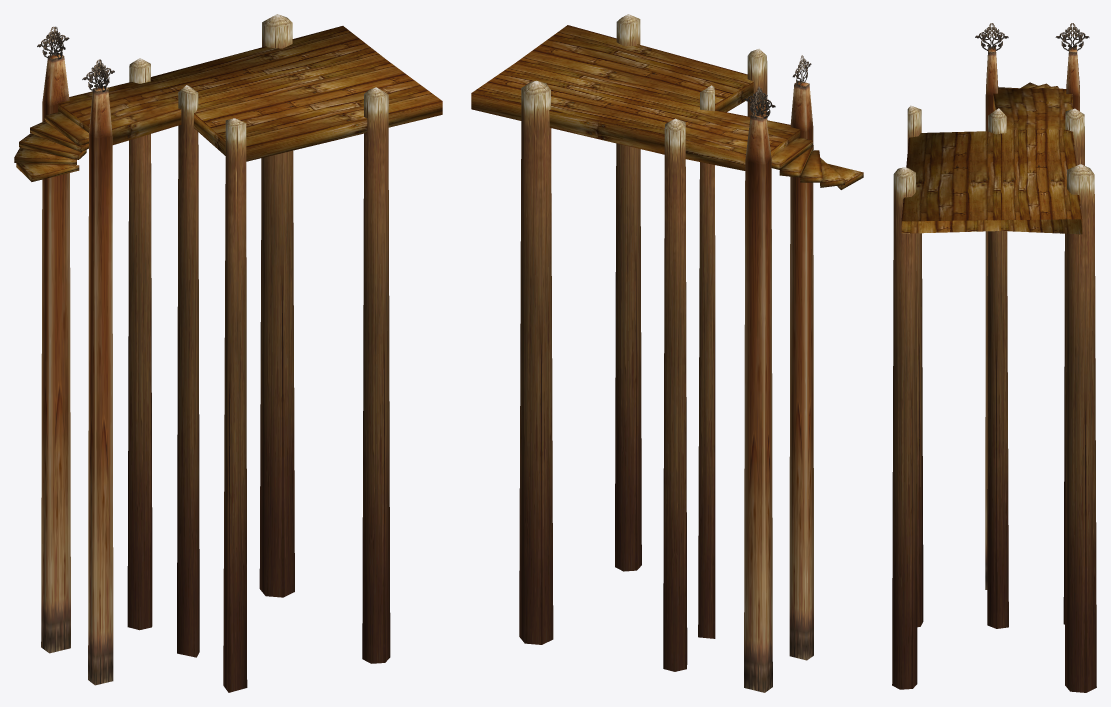
File: smalldock.obj
3 views of the same model, side by side, from view 1: azimuth 30°, elevation 25°; view 2: azimuth 150°, elevation 25°; view 3: azimuth 270°, elevation 25° (orthographic). The views are drawn at different scales.
Visible parts, largest first — view 1: Geoset1, Geoset3, Geoset0, Geoset2; view 2: Geoset1, Geoset3, Geoset0, Geoset2; view 3: Geoset1, Geoset0, Geoset3, Geoset2.
Boxes of the visible parts, box(x1,y1,x2,y2) form: Geoset1: box(127, 14, 390, 692); Geoset3: box(41, 53, 113, 685); Geoset0: box(14, 26, 442, 181); Geoset2: box(37, 26, 114, 91); Geoset1: box(519, 14, 767, 671); Geoset3: box(744, 81, 813, 692); Geoset0: box(471, 25, 863, 189); Geoset2: box(744, 55, 811, 118); Geoset1: box(892, 105, 1096, 692); Geoset0: box(901, 82, 1082, 234); Geoset3: box(985, 47, 1079, 589); Geoset2: box(975, 23, 1089, 51).
Bounding box in the file's own units: 15.95 × 26.48 × 8.7.
4 materials, 4 textured.
